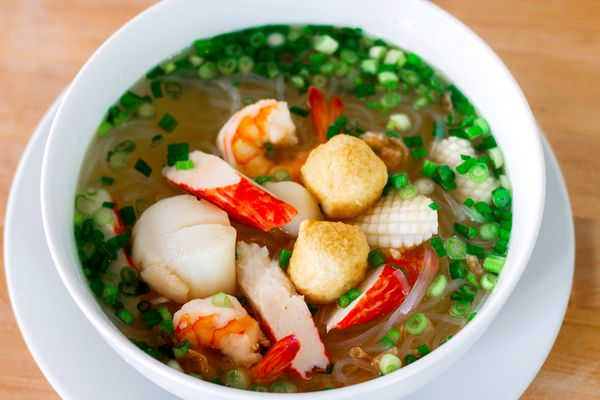sushi: (16, 2, 589, 395)
